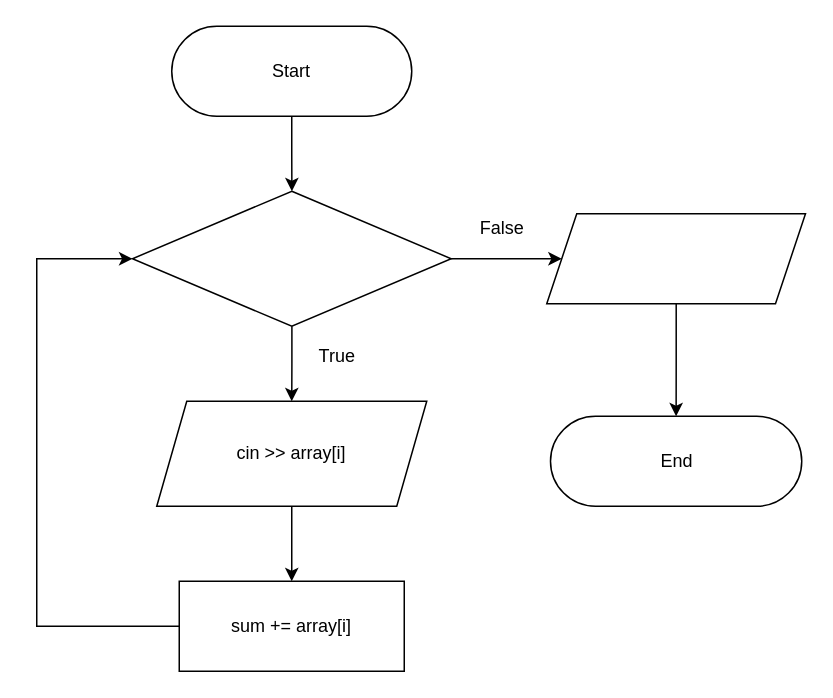
Image size: 833x698. Some labels were removed from this diagram. Each missing label, with the box of its shape:
for(i = 0; i < array.length; i++): (131, 190, 451, 326)
Output (sum): (545, 212, 806, 304)
